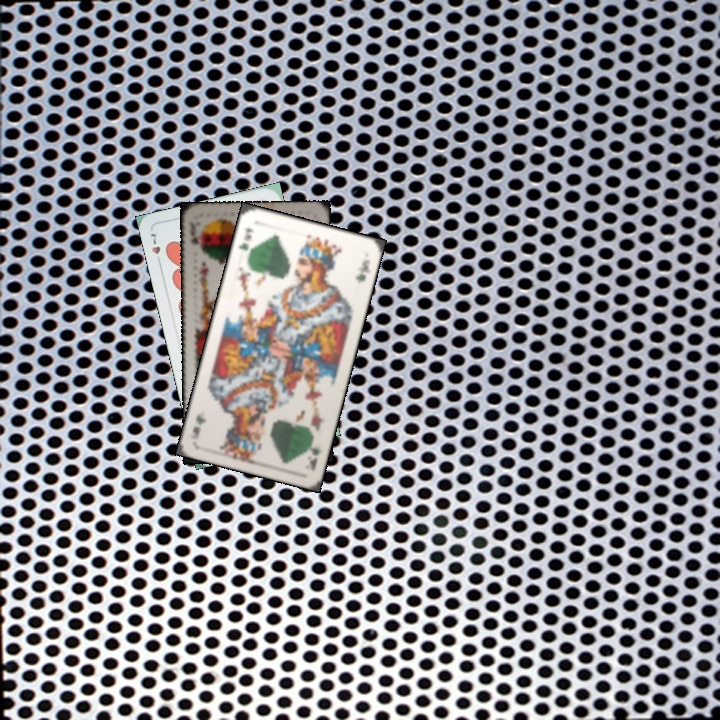GK: (234, 224, 256, 253), (303, 445, 323, 473)
H7: (146, 229, 164, 268)
SK: (186, 228, 204, 255)
